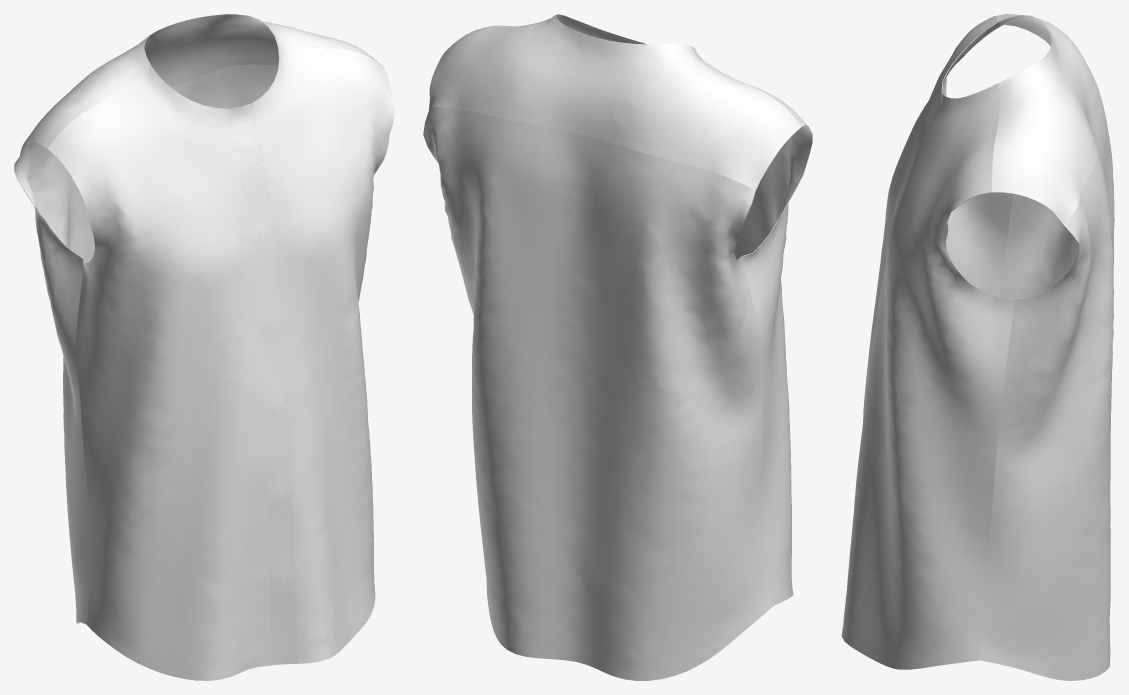
File: shirt-v5.glb
3 renders of one model, left to right at view 1: azimuth 30°, elevation 25°; view 2: azimuth 150°, elevation 25°; view 3: azimuth 270°, elevation 25°, orthographic. The views are drawn at different scales.
Parts seen in each view (by area): view 1: Body_Front_2_Node, Body_Front_Node, Body_Back_Node, Body_Front_1_Node, Body_Back_Yoke_Node; view 2: Body_Back_Node, Body_Back_Yoke_Node, Body_Front_2_Node, Body_Front_Node; view 3: Body_Front_Node, Body_Back_Node, Body_Back_Yoke_Node, Body_Front_2_Node, Body_Front_1_Node.
Part boxes in pixels (x1,y1,x2,y2): Body_Front_2_Node: (47, 66, 271, 680); Body_Front_Node: (252, 36, 394, 663); Body_Back_Node: (14, 64, 278, 624); Body_Front_1_Node: (228, 103, 297, 665); Body_Back_Yoke_Node: (19, 14, 382, 157); Body_Back_Node: (423, 107, 773, 680); Body_Back_Yoke_Node: (429, 14, 801, 190); Body_Front_2_Node: (690, 46, 812, 605); Body_Front_Node: (558, 15, 642, 43); Body_Front_Node: (841, 83, 1014, 669); Body_Back_Node: (980, 86, 1114, 680); Body_Back_Yoke_Node: (992, 14, 1097, 225); Body_Front_2_Node: (863, 16, 1013, 421); Body_Front_1_Node: (863, 82, 942, 415).
Bounding box in the file's own units: 0.4455 × 0.7457 × 0.3075.
Materials: 2 (2 with a texture image).
